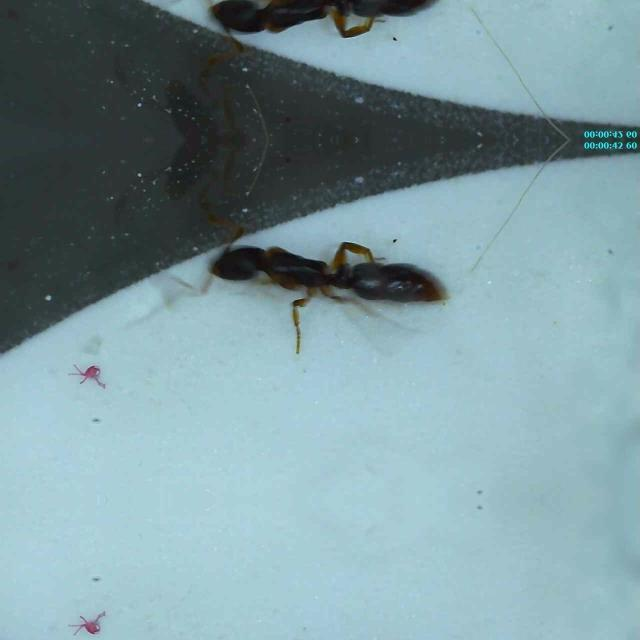Ponera: (203, 211, 433, 331), (203, 0, 433, 68)
